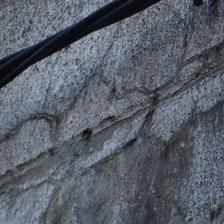Crack: (4, 64, 192, 147)
